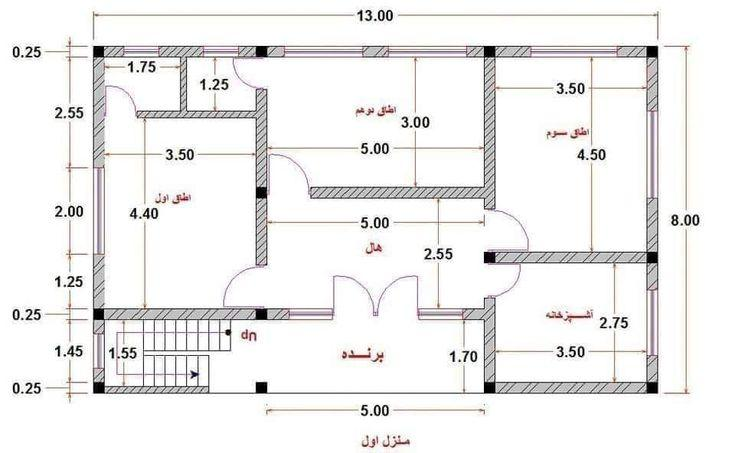Blueprint: (87, 40, 665, 402)
wall: (309, 183, 499, 203), (481, 53, 499, 213), (493, 380, 648, 397), (493, 250, 649, 265), (102, 307, 257, 321), (91, 55, 107, 171), (134, 108, 270, 121), (253, 85, 269, 190), (101, 383, 212, 397), (482, 295, 498, 386), (254, 197, 269, 269), (90, 251, 107, 311), (644, 195, 661, 254), (644, 54, 660, 115), (179, 44, 189, 121), (156, 44, 207, 59), (492, 43, 533, 59), (460, 307, 498, 322), (359, 43, 392, 60), (644, 353, 661, 386), (615, 43, 649, 59), (645, 261, 660, 293), (264, 306, 292, 322), (102, 44, 127, 59), (464, 43, 486, 60), (236, 43, 259, 59), (91, 365, 107, 386), (266, 44, 286, 60), (91, 317, 107, 337)
